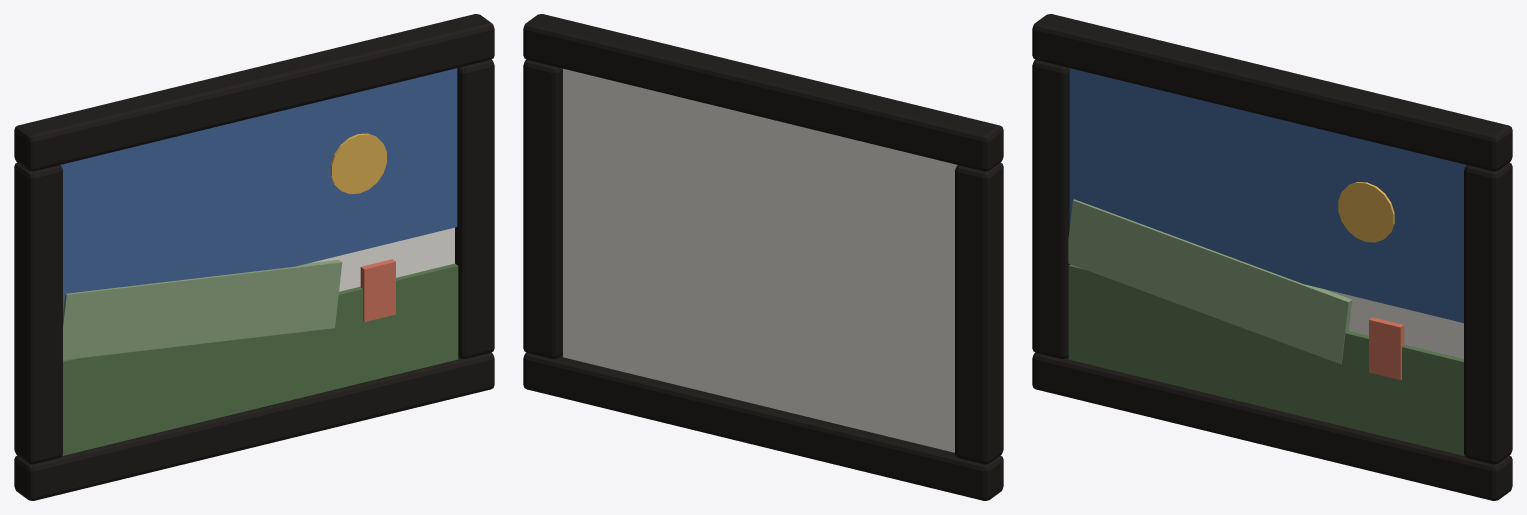
File: hh_cat_picture_v.glb
The picture shows the model from 3 angles, left to right: view 1: azimuth 30°, elevation 25°; view 2: azimuth 150°, elevation 25°; view 3: azimuth 330°, elevation 25°; orthographic projection.
Parts seen in each view (by area): view 1: paint_sky, paint_field, frame.001, paint_hill, frame, frame.002, frame.003, canvas, paint_sun, paint_house; view 2: canvas, frame.001, frame, frame.002, frame.003; view 3: paint_sky, paint_field, frame.001, paint_hill, frame, frame.003, frame.002, canvas, paint_sun, paint_house.
Boxes of the visible parts, left/top/right/bottom form: paint_sky: left=60, top=68, right=457, bottom=312; paint_field: left=62, top=263, right=458, bottom=455; frame.001: left=14, top=14, right=494, bottom=171; paint_hill: left=63, top=259, right=342, bottom=359; frame: left=14, top=352, right=494, bottom=500; frame.002: left=14, top=162, right=62, bottom=464; frame.003: left=455, top=59, right=494, bottom=358; canvas: left=311, top=227, right=454, bottom=291; paint_sun: left=330, top=133, right=386, bottom=194; paint_house: left=360, top=259, right=395, bottom=321; canvas: left=563, top=68, right=957, bottom=452; frame.001: left=523, top=14, right=1003, bottom=171; frame: left=523, top=352, right=1003, bottom=500; frame.002: left=955, top=162, right=1003, bottom=464; frame.003: left=523, top=59, right=562, bottom=358; paint_sky: left=1069, top=68, right=1466, bottom=322; paint_field: left=1068, top=264, right=1464, bottom=455; frame.001: left=1032, top=14, right=1512, bottom=171; paint_hill: left=1068, top=199, right=1352, bottom=364; frame: left=1032, top=352, right=1512, bottom=500; frame.003: left=1464, top=162, right=1512, bottom=464; frame.002: left=1032, top=59, right=1070, bottom=358; canvas: left=1324, top=289, right=1463, bottom=358; paint_sun: left=1338, top=182, right=1394, bottom=242; paint_house: left=1369, top=317, right=1404, bottom=380.
Size of the model in its own units: 0.6 by 0.45 by 0.04.
